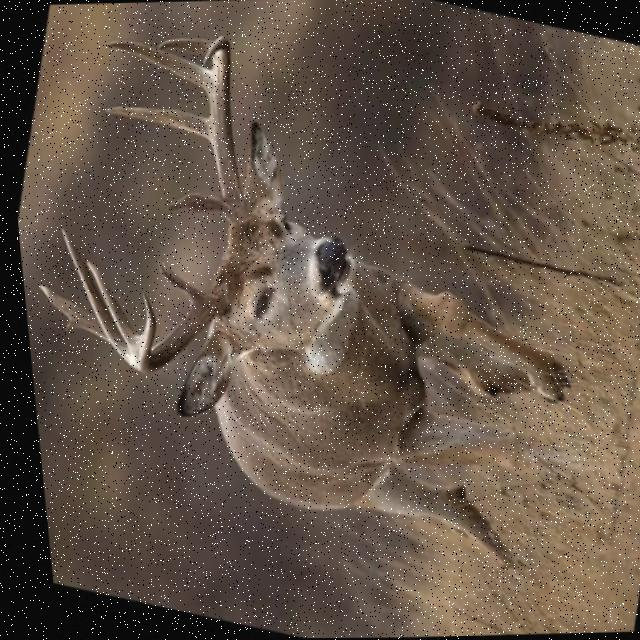L-F: (127, 281, 223, 374)
L-G1: (152, 259, 199, 307)
L-G4: (79, 259, 132, 357)
R-F: (199, 34, 241, 224)
R-G1: (162, 192, 221, 216)
R-G2: (100, 104, 207, 144)
R-G3: (105, 40, 208, 94)
